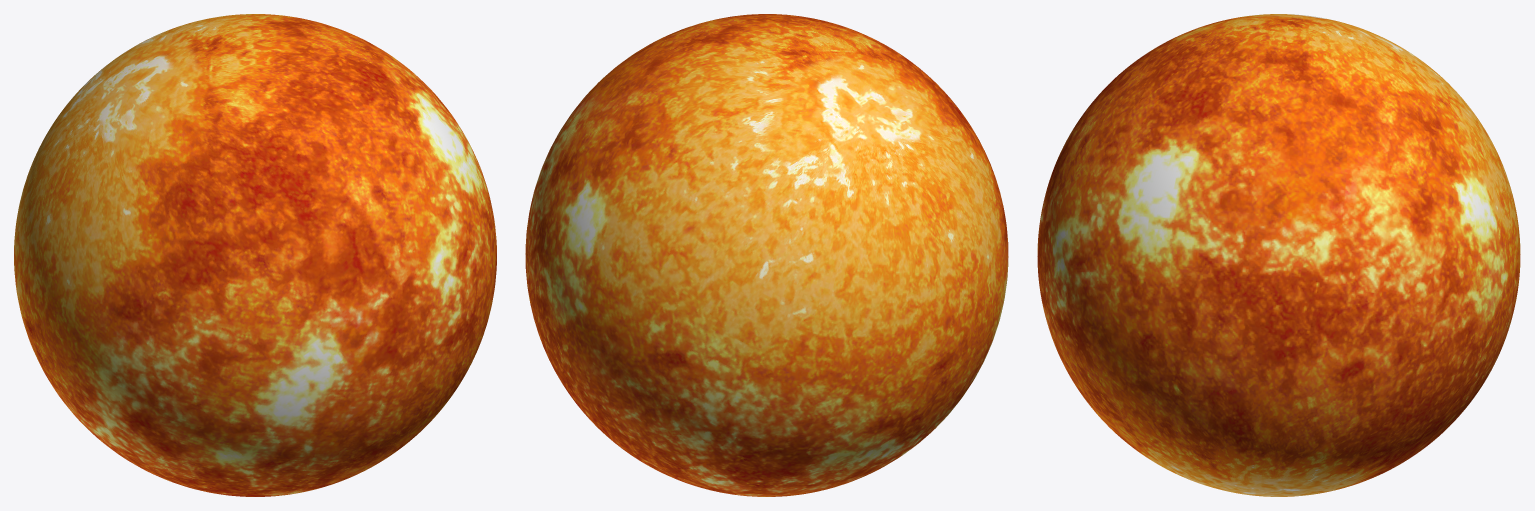
Rendered from Sun.fbx.
The picture shows the model from 3 angles, left to right: view 1: azimuth 30°, elevation 25°; view 2: azimuth 150°, elevation 25°; view 3: azimuth 270°, elevation 25°; orthographic projection.
Parts seen in each view (by area): view 1: node_id30; view 2: node_id30; view 3: node_id30.
Part boxes in pixels (bbox=[...]): node_id30: bbox=[14, 14, 496, 496]; node_id30: bbox=[525, 14, 1008, 496]; node_id30: bbox=[1037, 14, 1520, 496].
Size of the model in its own units: 0.2106 by 0.2107 by 0.2107.
Materials: 1 (1 with a texture image).
